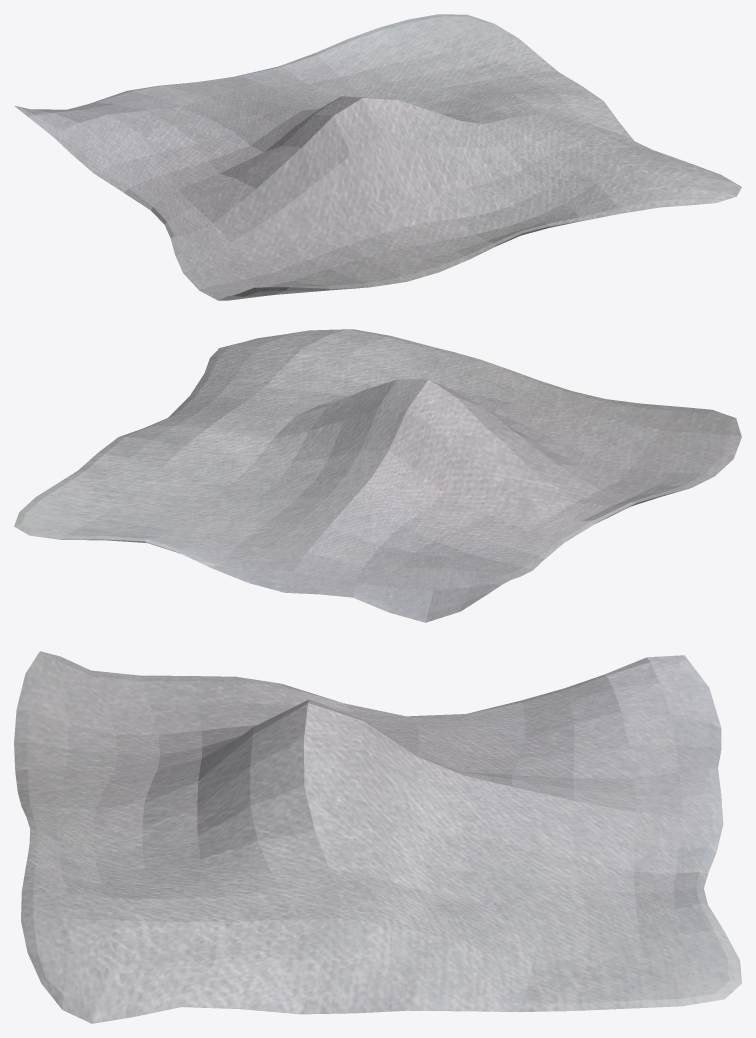
The model's file is clothDoubleNormals.gltf.
The picture shows the model from 3 angles, top to bottom: view 1: azimuth 30°, elevation 25°; view 2: azimuth 150°, elevation 25°; view 3: azimuth 270°, elevation 25°; orthographic projection. The views are drawn at different scales.
Parts seen in each view (by area): view 1: tuchtexture; view 2: tuchtexture; view 3: tuchtexture.
Part boxes in pixels (x1,y1,x2,y2): tuchtexture: (15, 14, 741, 300); tuchtexture: (14, 329, 741, 622); tuchtexture: (14, 651, 741, 1023).
Size of the model in its own units: 1.02 by 0.198 by 0.9342.
1 material, 1 textured.
